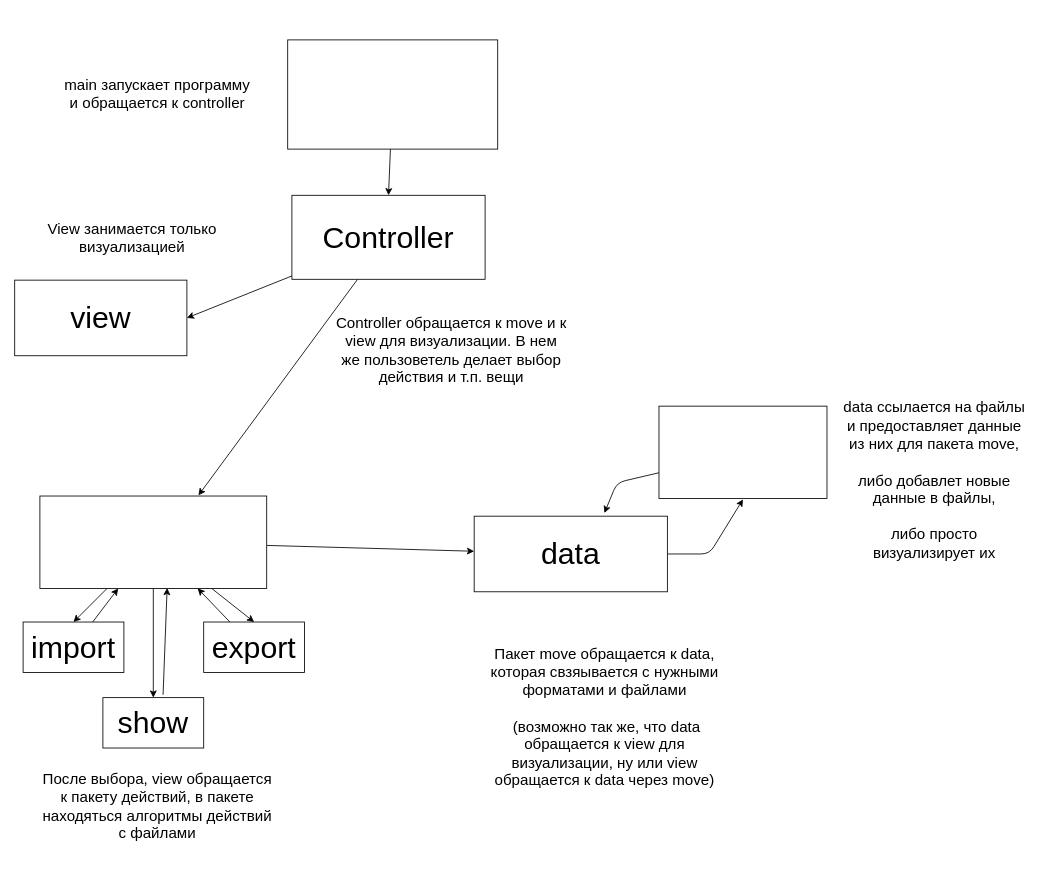
Some shapes in this 1046 by 879 pixel diagram are drawn without their labels. Each missing label, with the centre of its shape:
files .html .word .xml .xsxl: the point at 742,452
main: the point at 392,94
package move.____: the point at 153,541
